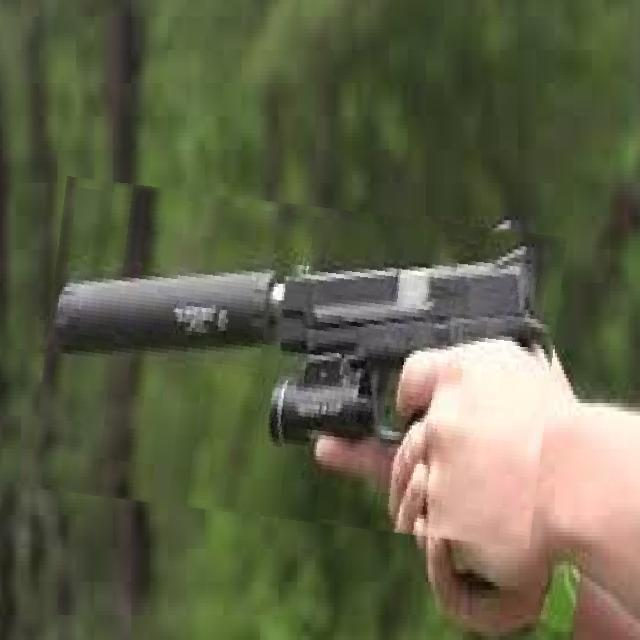Gun_Holder: (49, 229, 640, 640)
